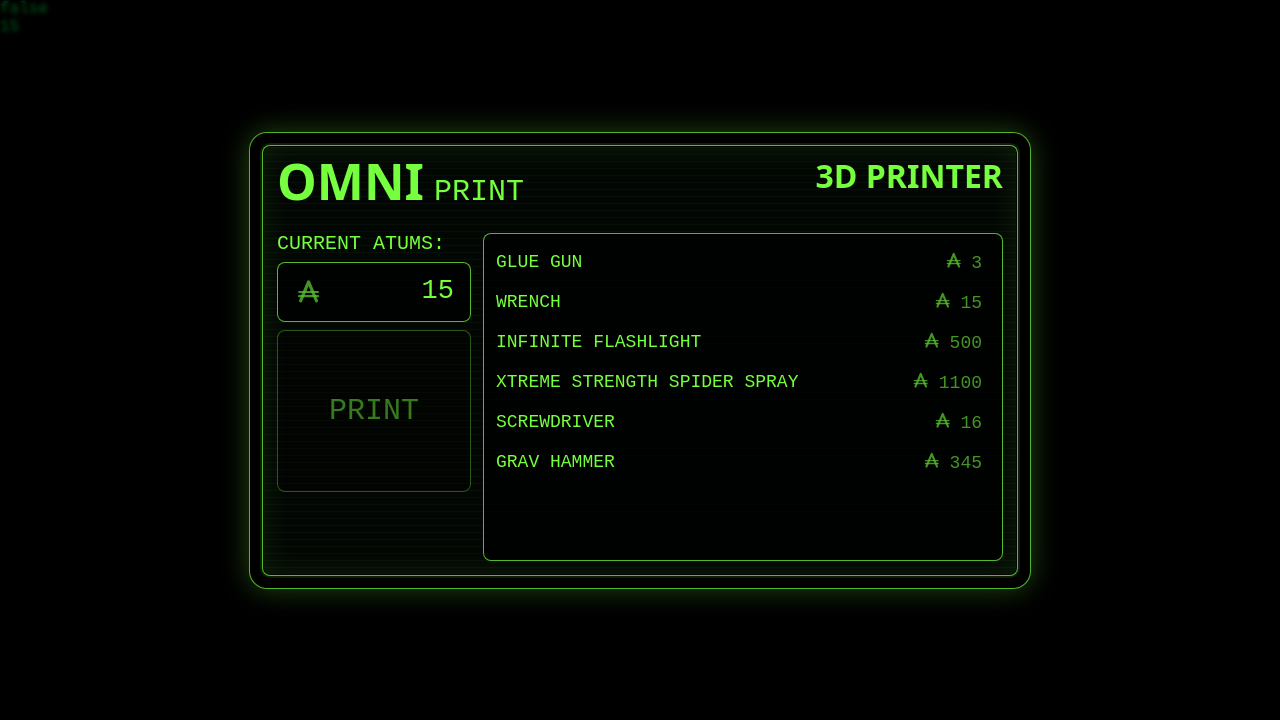
Test: 3D printer › spends atums, flashes, closes, logs, and moves the print to the tray
The width and height of the screenshot is (1280, 720).
Click the button with aria-label "wrench, 15 atums" at (528, 302), box [494,282,990,322]
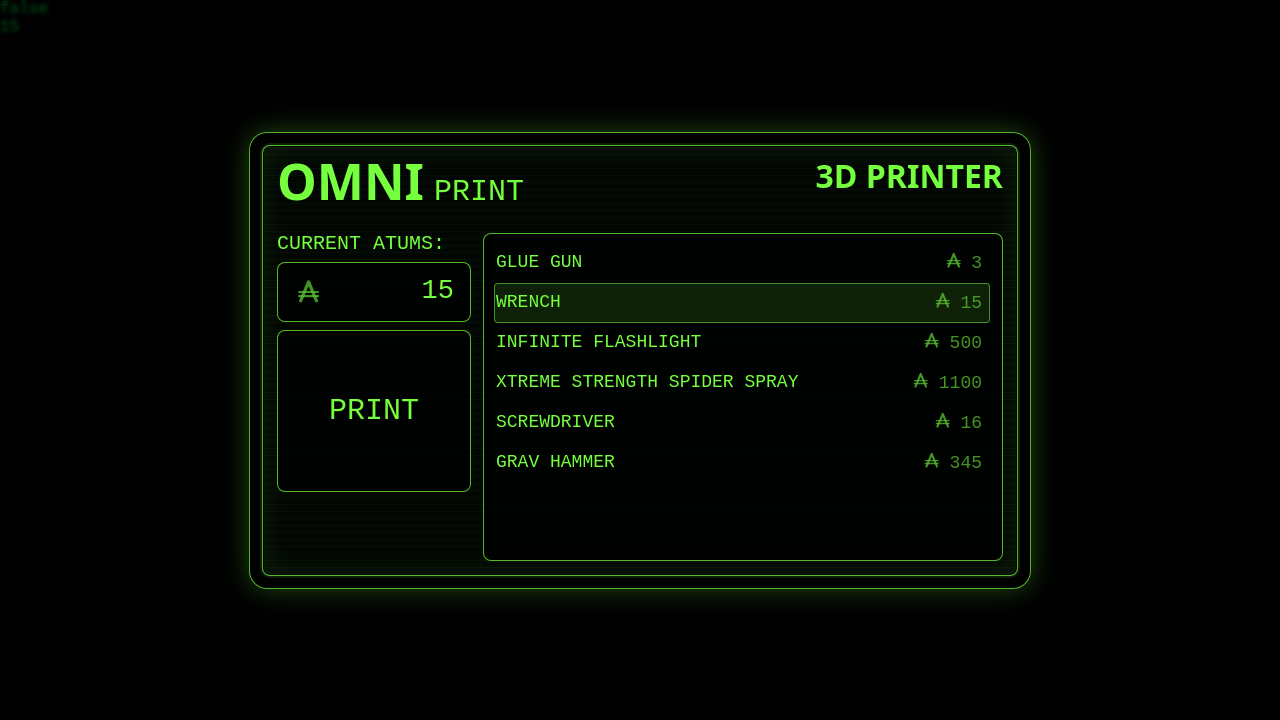
Expected: the button "PRINT" is enabled
Click the button "PRINT" at (374, 410), box [277,330,471,492]
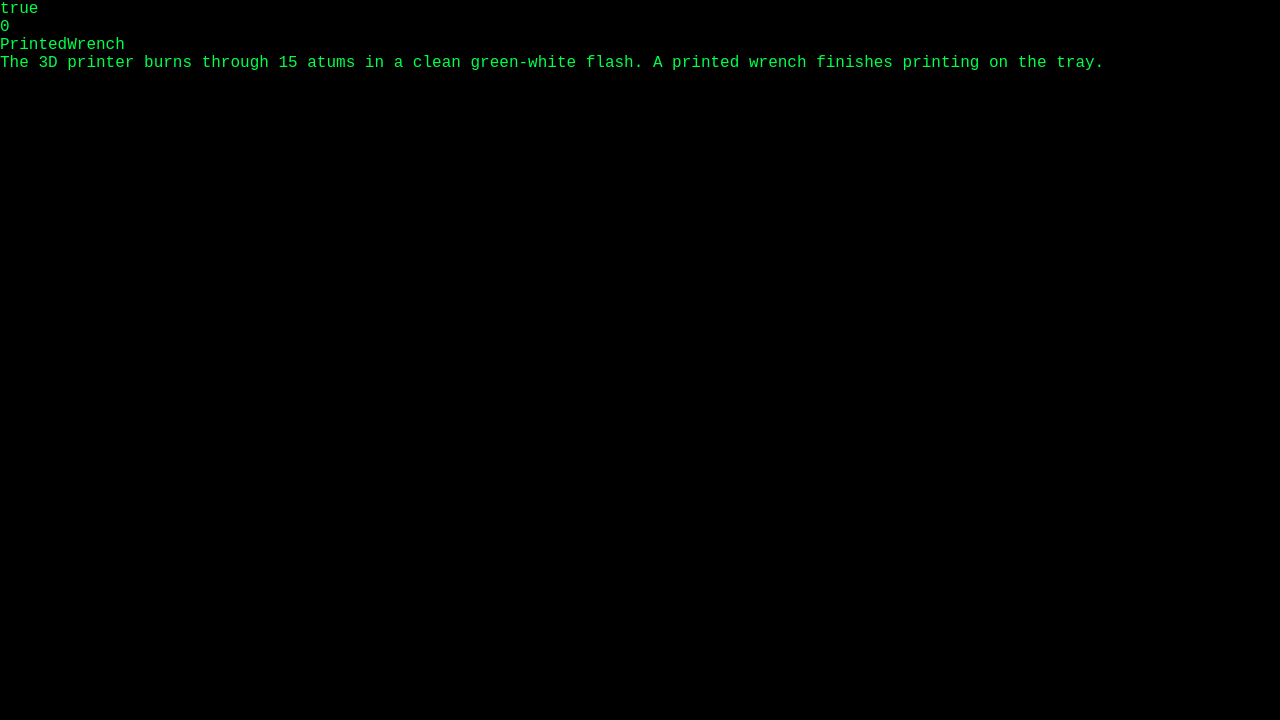
Expected: the text with test id "closed" reads "true", [0,0,38,18]
Expected: the text with test id "atum-count" reads "0", [0,18,10,36]
Expected: the text with test id "tray-contents" reads "PrintedWrench", [0,36,125,54]
